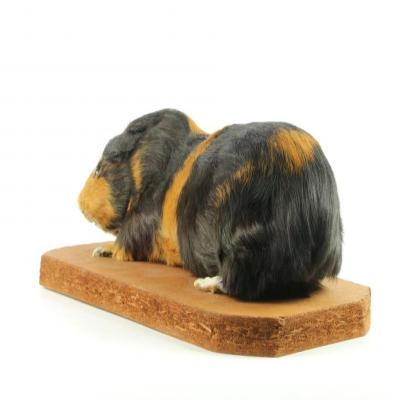natural_science_collection: (78, 109, 345, 304)
